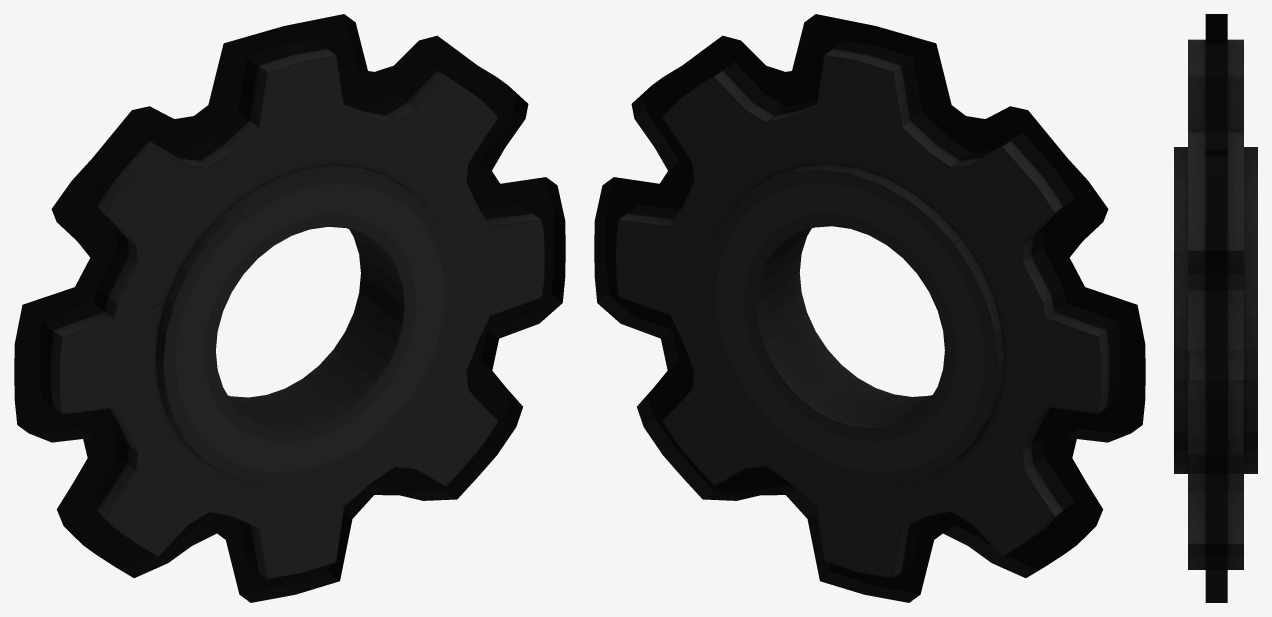
Rendered from Ops_badge.glb.
3 views of the same model, side by side, from view 1: azimuth 30°, elevation 25°; view 2: azimuth 150°, elevation 25°; view 3: azimuth 270°, elevation 25° (orthographic). The views are drawn at different scales.
Visible parts, largest first — view 1: Ops Badge; view 2: Ops Badge; view 3: Ops Badge.
Part boxes in pixels (box(x1,y1,x2,y2)): Ops Badge: box(14, 14, 565, 602); Ops Badge: box(594, 14, 1145, 602); Ops Badge: box(1174, 14, 1257, 602).
Size of the model in its own units: 0.0934 by 0.0927 by 0.013.
Materials: 1 (1 with a texture image).
